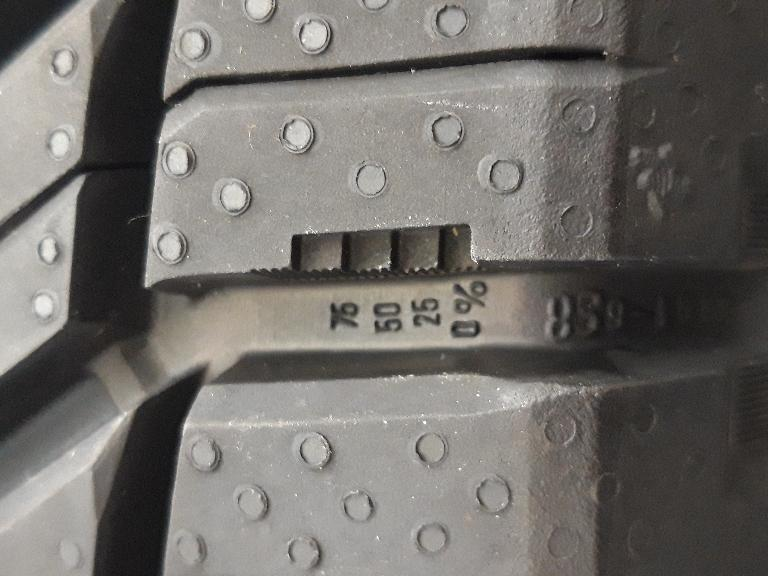temoin:100: (249, 221, 486, 290)
